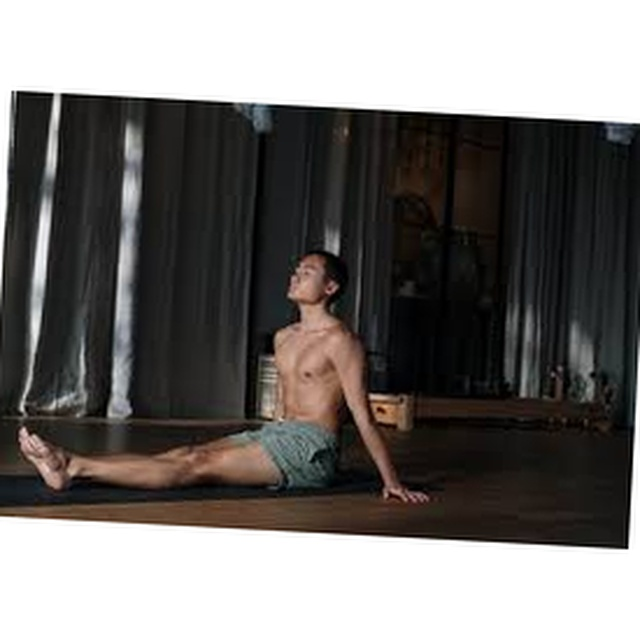Staff_Pose: (13, 251, 433, 507)
